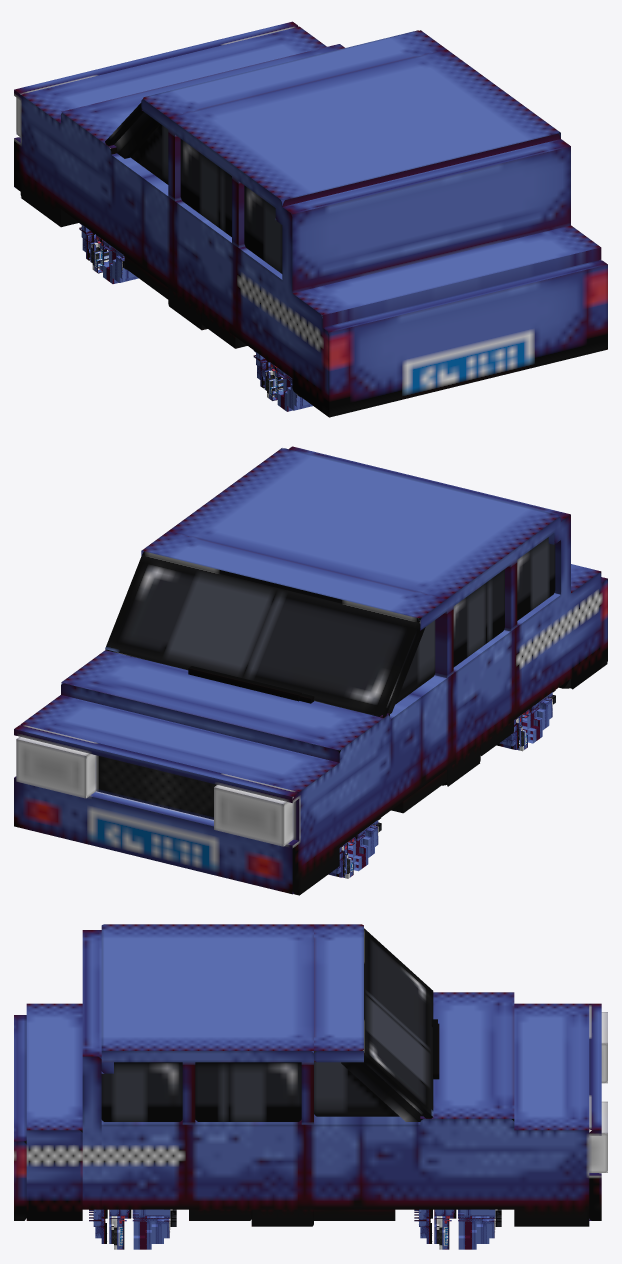
Rendered from car_.obj.
3 renders of one model, top to bottom at view 1: azimuth 30°, elevation 25°; view 2: azimuth 150°, elevation 25°; view 3: azimuth 270°, elevation 25°, orthographic. The views are drawn at different scales.
Parts seen in each view (by area): view 1: cube, cube_1, cube_3, cube_4, cube_12, cube_2, cube_11, cube_18, cube_20, cube_10, cube_17, cube_23 (+5 smaller); view 2: cube, cube_14, cube_11, cube_12, cube_13, cube_2, cube_18, cube_20, cube_10, cube_17, cube_15, cube_16 (+9 smaller); view 3: cube, cube_11, cube_2, cube_12, cube_4, cube_10, cube_20, cube_14, cube_18, cube_1, cube_21, cube_3 (+12 smaller).
Part boxes in pixels (box(x1,y1,x2,y2)): cube: box(168, 49, 560, 212); cube_1: box(282, 139, 570, 377); cube_3: box(322, 259, 607, 417); cube_4: box(292, 225, 601, 412); cube_12: box(20, 26, 326, 227); cube_2: box(168, 197, 282, 370); cube_11: box(61, 44, 344, 245); cube_18: box(141, 30, 446, 129); cube_20: box(111, 153, 168, 287); cube_10: box(180, 139, 282, 273); cube_17: box(14, 21, 298, 100); cube_23: box(131, 124, 168, 184); cube: box(168, 448, 560, 610); cube_14: box(105, 553, 420, 717); cube_11: box(61, 650, 389, 847); cube_12: box(20, 695, 339, 895); cube_13: box(14, 776, 299, 894); cube_2: box(447, 593, 560, 768); cube_18: box(141, 531, 446, 630); cube_20: box(390, 675, 446, 810); cube_10: box(453, 537, 555, 667); cube_17: box(14, 725, 299, 803); cube_15: box(16, 736, 96, 798); cube_16: box(214, 785, 293, 846); cube: box(101, 924, 313, 1062); cube_11: box(420, 992, 514, 1209); cube_2: box(101, 1119, 313, 1209); cube_12: box(514, 1003, 589, 1226); cube_4: box(26, 1003, 82, 1220); cube_10: box(101, 1062, 301, 1121); cube_20: box(314, 1114, 420, 1209); cube_14: box(363, 928, 433, 1118); cube_18: box(314, 924, 363, 1062); cube_1: box(82, 930, 101, 1209); cube_21: box(314, 1050, 399, 1116); cube_3: box(14, 1015, 26, 1220).
Size of the model in its own units: 3 by 2.25 by 5.94.
